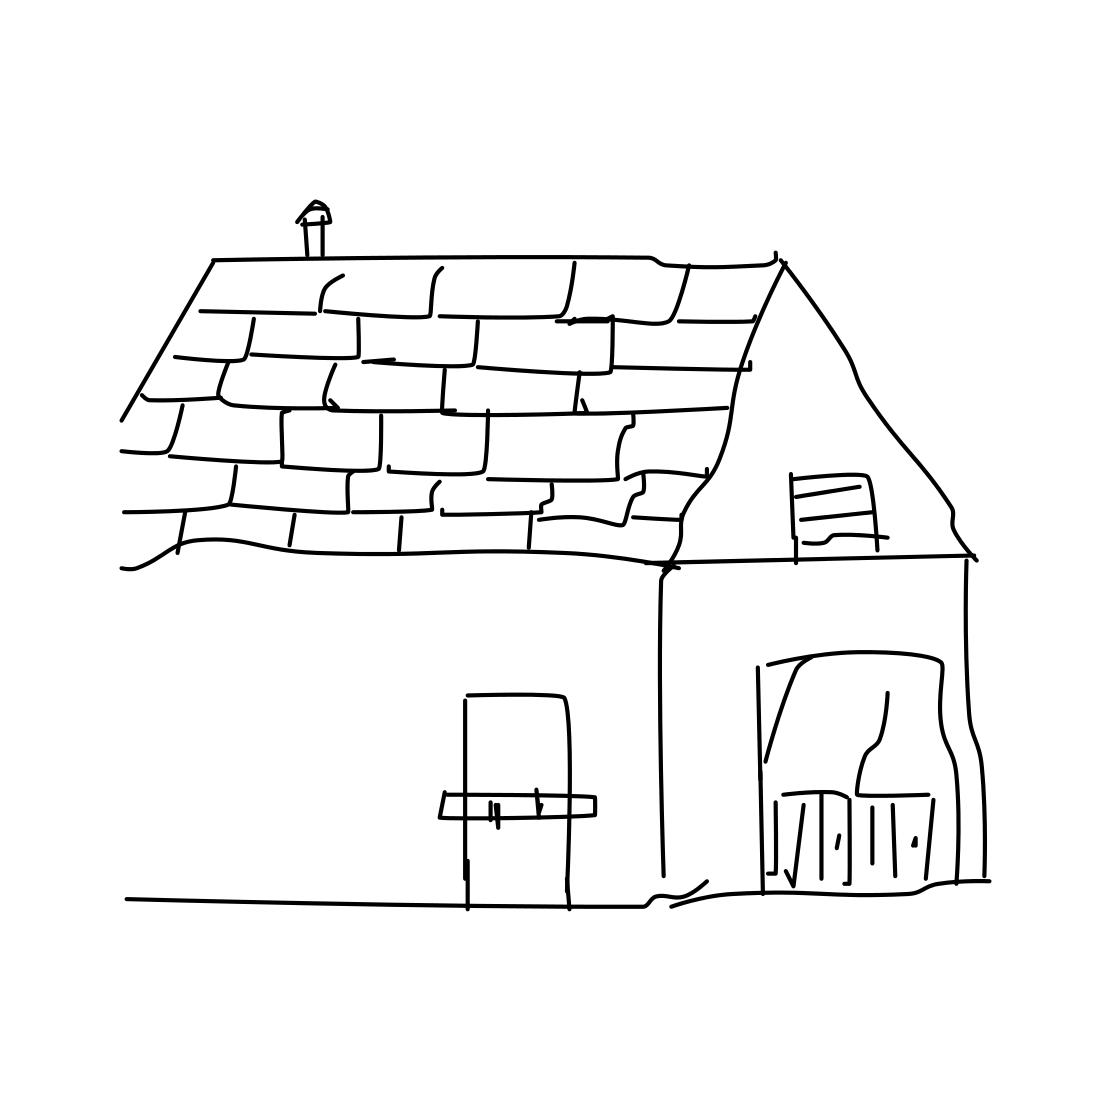House: (58, 202, 1015, 955)
